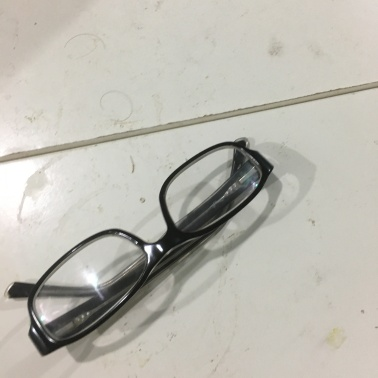glasses: (55, 143, 253, 332)
